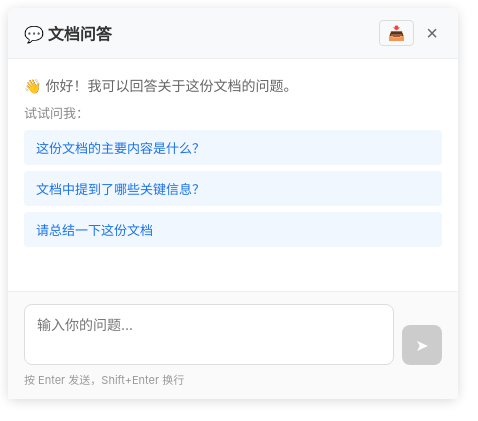
it: DocumentQAPanel › Error Handling › should display error message on API failure
Type "测试问题" into the text box with placeholder "输入你的问题...".
click(209, 335); type("测试问题")  # box [24,304,394,365]
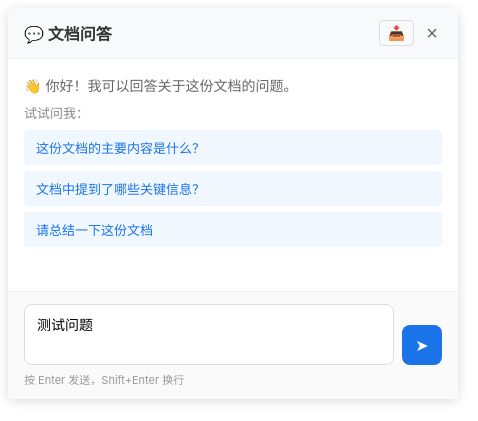
Click the button "➤".
click(422, 345)  # box [402,325,442,365]
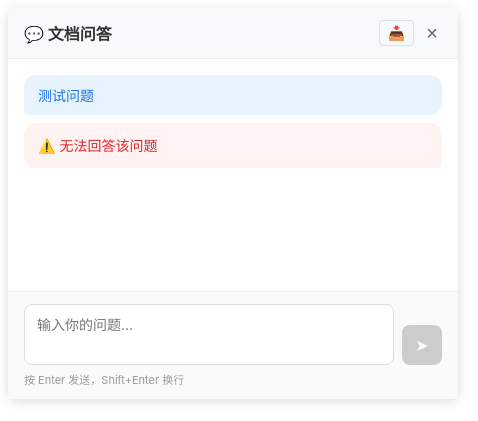
Result: the element showing "测试问题 ⚠️ 无法回答该问题" is shown at [24,75,442,168]
